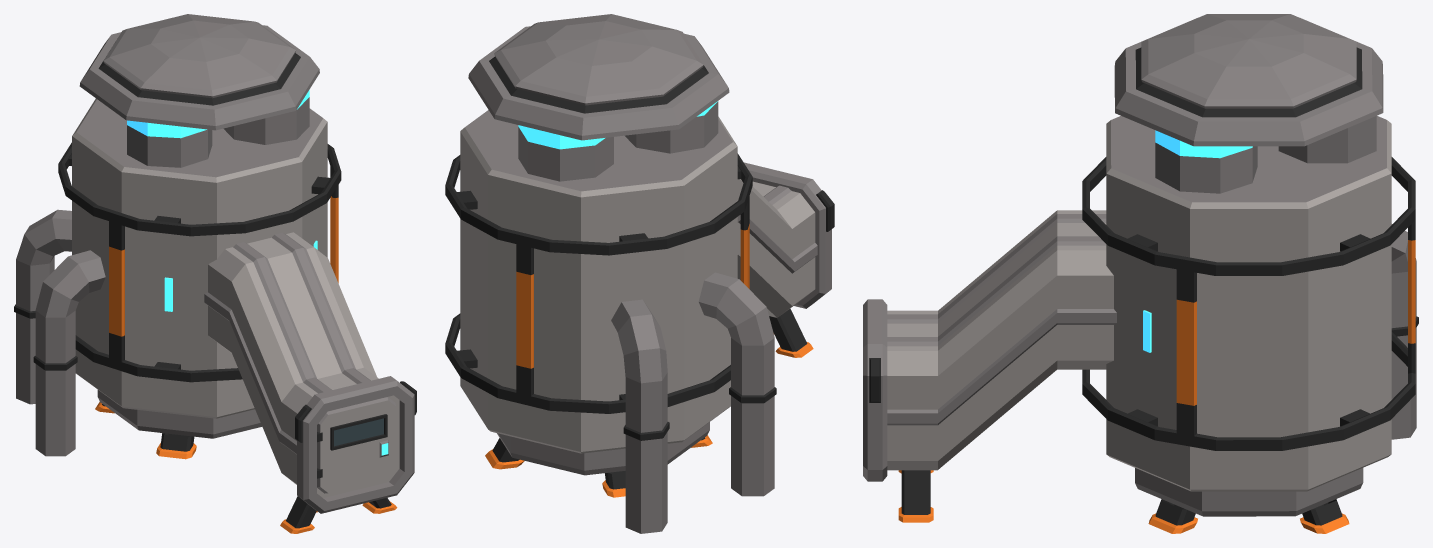
The model's file is scifi_scifi-planet-base-generator-big.fbx.
3 views of the same model, side by side, from view 1: azimuth 30°, elevation 25°; view 2: azimuth 150°, elevation 25°; view 3: azimuth 270°, elevation 25° (orthographic). The views are drawn at different scales.
Visible parts, largest first — view 1: scifi_scifi_planet_base_generator_big; view 2: scifi_scifi_planet_base_generator_big; view 3: scifi_scifi_planet_base_generator_big.
Part boxes in pixels (<box>): scifi_scifi_planet_base_generator_big: <box>14,14,416,533</box>; scifi_scifi_planet_base_generator_big: <box>445,14,834,533</box>; scifi_scifi_planet_base_generator_big: <box>863,14,1418,533</box>.
Bounding box in the file's own units: 139 × 180 × 200.
